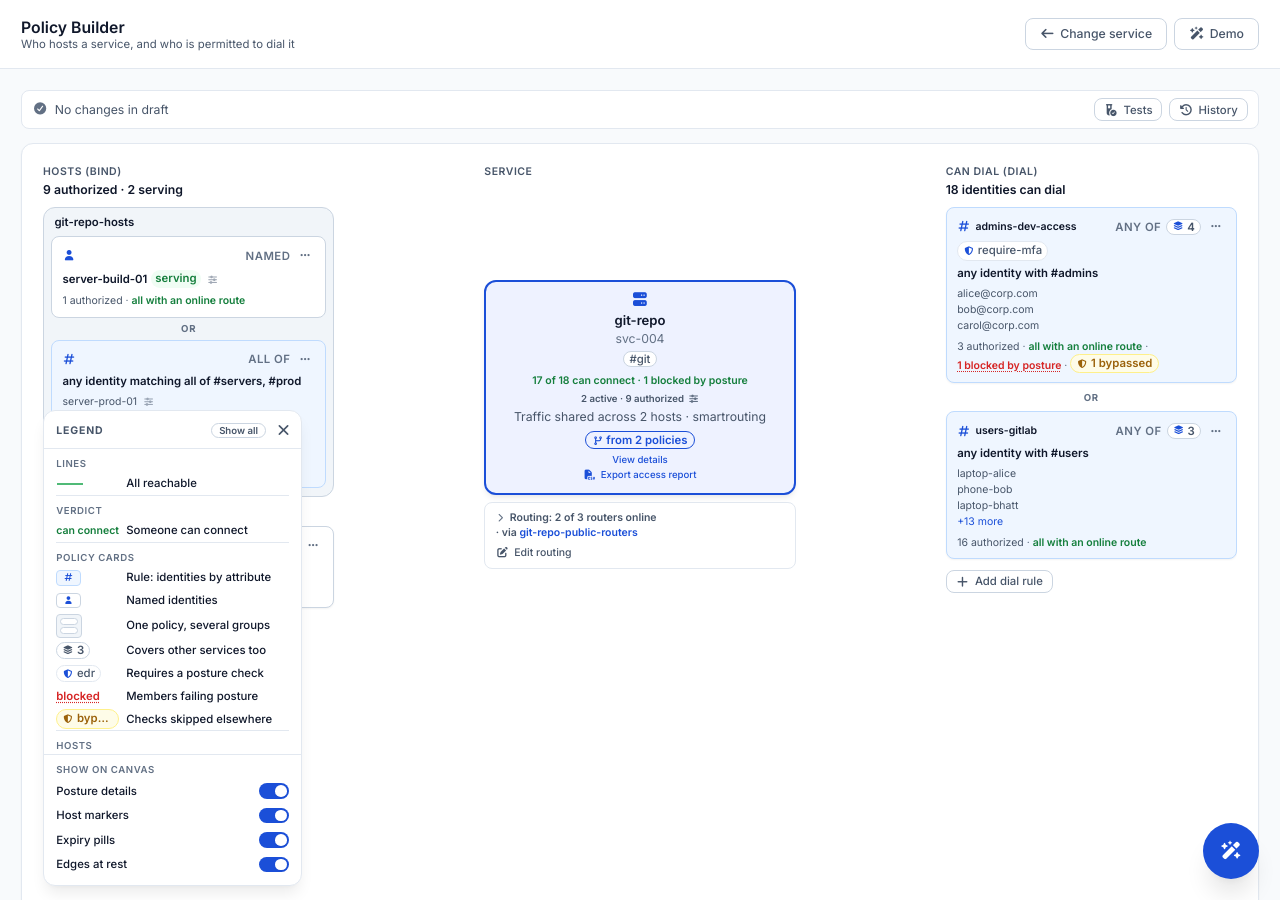
Scenario: PolicyBuilderComponent — live changes from outside the builder (Demo panel) › Advance clock 1 hour moves the demo clock; the next change is stamped with it
The image size is (1280, 900).
Click the button with class "demo-btn": {"x": 1217, "y": 34} [1174,18,1259,50]
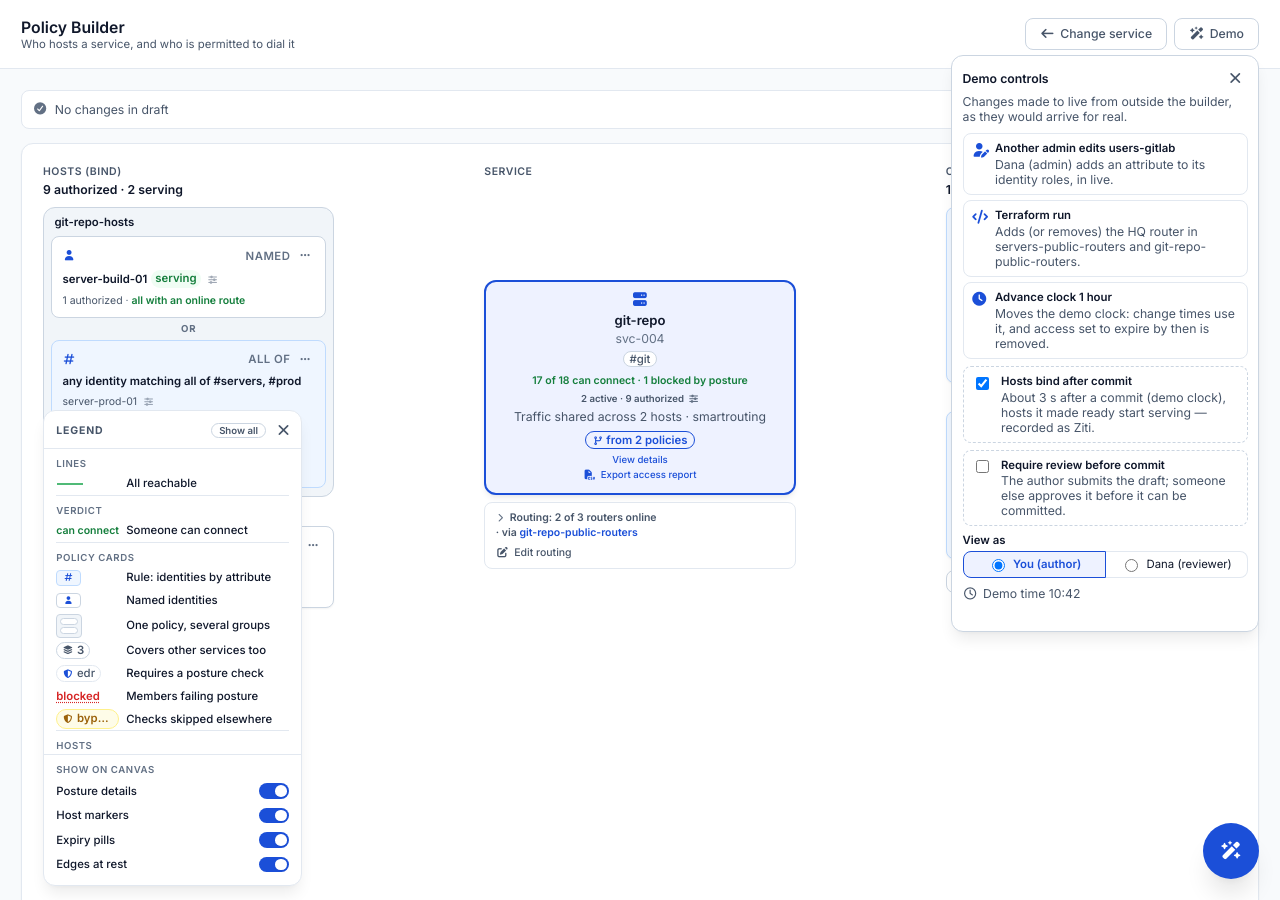
Click the button that starts with "Advance clock 1 hour": {"x": 1105, "y": 321} [962,282,1248,359]
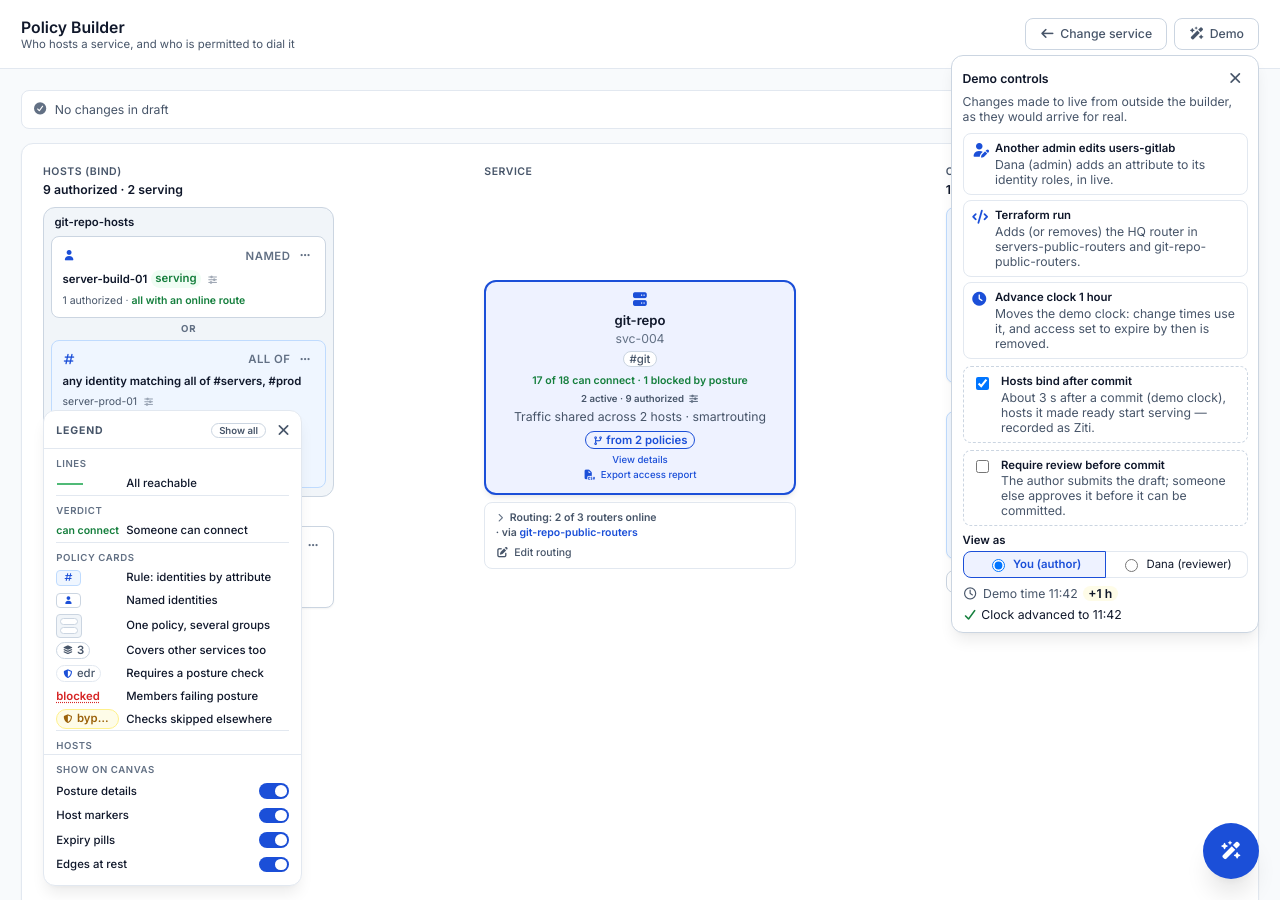
Check: the element with class "demo-clock" reads "Demo time 11:42 +1 h", box [962,586,1118,601]
Check: the message with class "demo-last" reads "Clock advanced to 11:42", box [978,607,1122,622]
Click the button that starts with "Another admin edits users-gitlab": {"x": 1105, "y": 164} [962,133,1248,195]
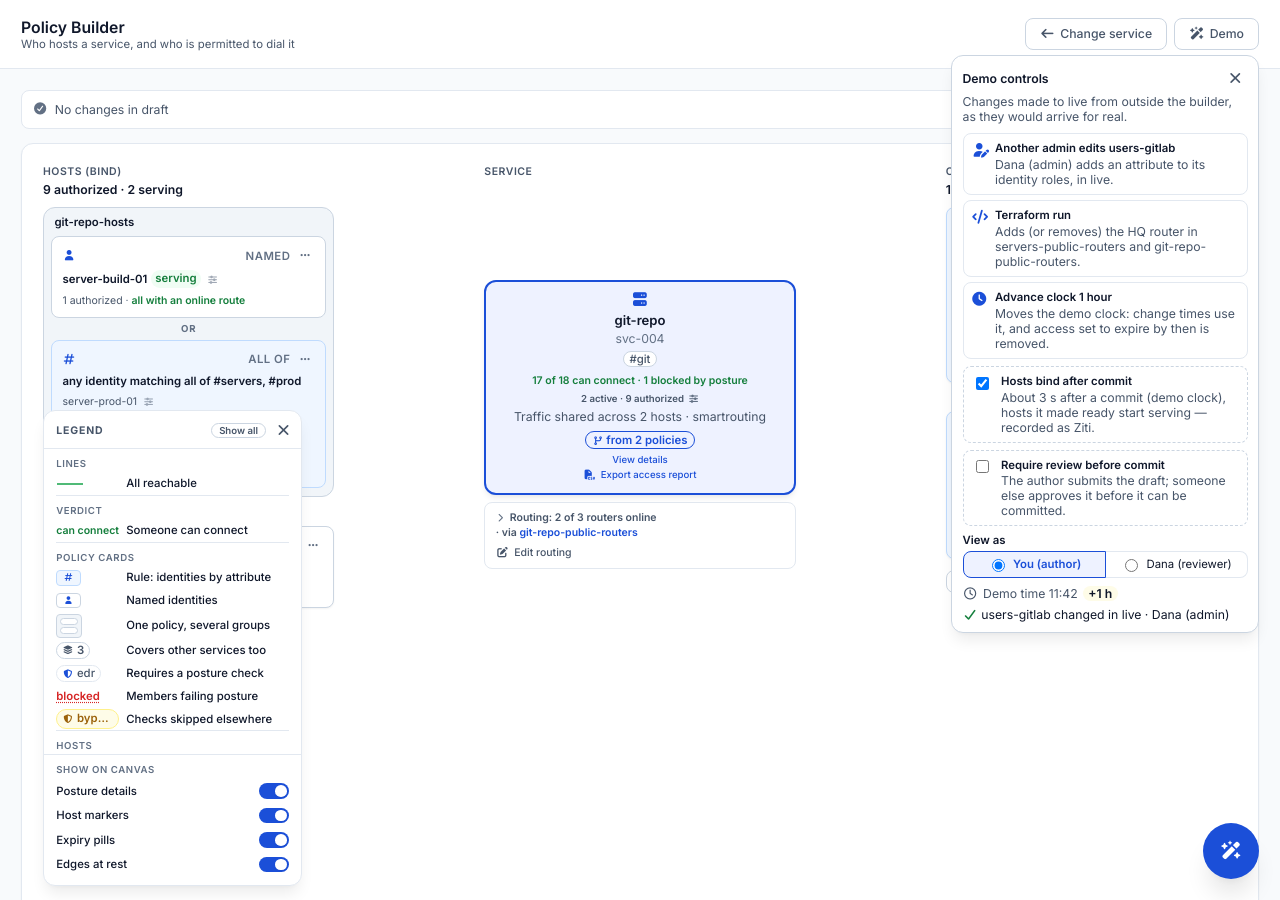
Check: the message with class "demo-last" reads "users-gitlab changed in live · Dana (admin)", box [978,607,1229,622]
